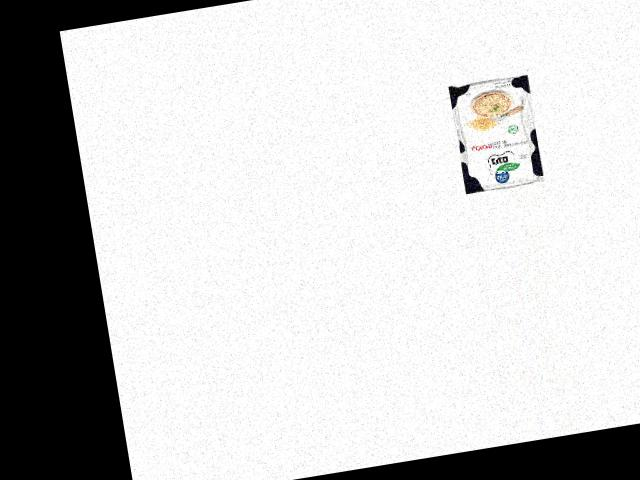cheese: (445, 71, 546, 195)
